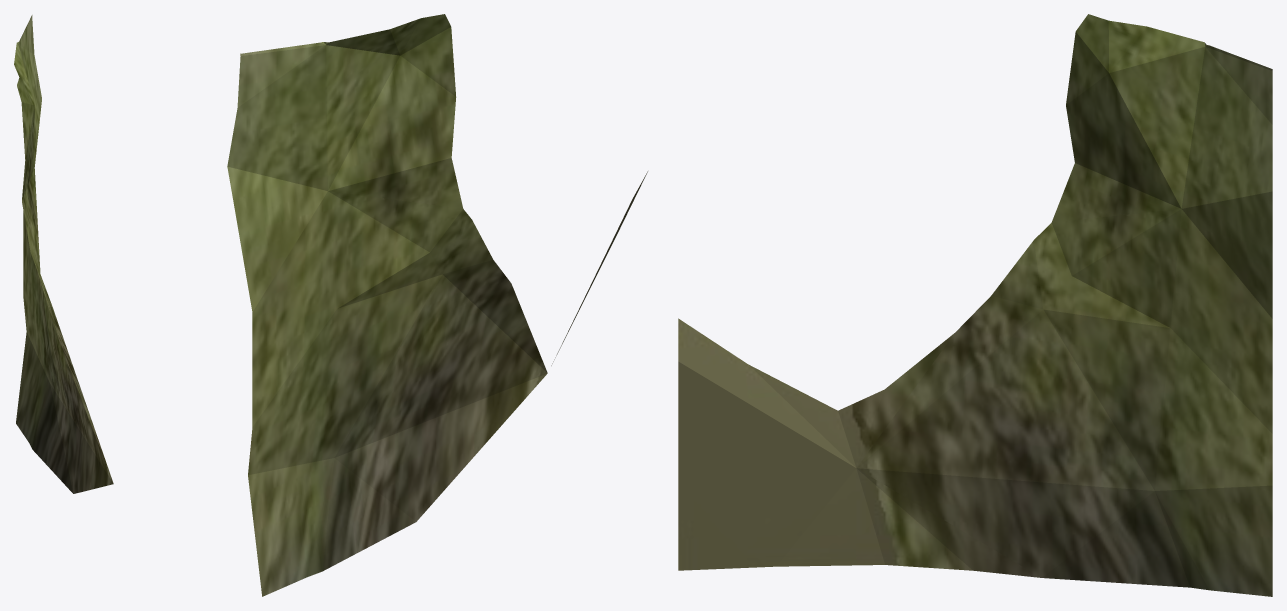
The picture shows the model from 3 angles, left to right: view 1: azimuth 30°, elevation 25°; view 2: azimuth 150°, elevation 25°; view 3: azimuth 270°, elevation 25°; orthographic projection. The views are drawn at different scales.
Size of the model in its own units: 0.7212 by 2.95 by 2.95.
Materials: 2 (2 with a texture image).
